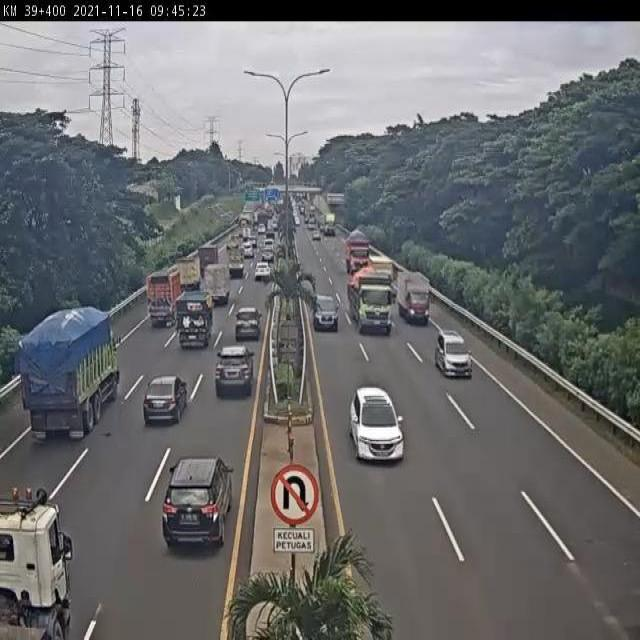car: (161, 460, 232, 552), (349, 389, 406, 460), (144, 377, 189, 428), (433, 329, 474, 382), (213, 347, 255, 396), (314, 295, 341, 336), (234, 305, 260, 343)
small truck: (400, 272, 431, 323), (203, 266, 229, 306), (174, 256, 202, 289)
truck-l-: (24, 312, 122, 433), (347, 272, 395, 335)
truck-m-: (146, 268, 182, 333), (175, 291, 213, 348)
